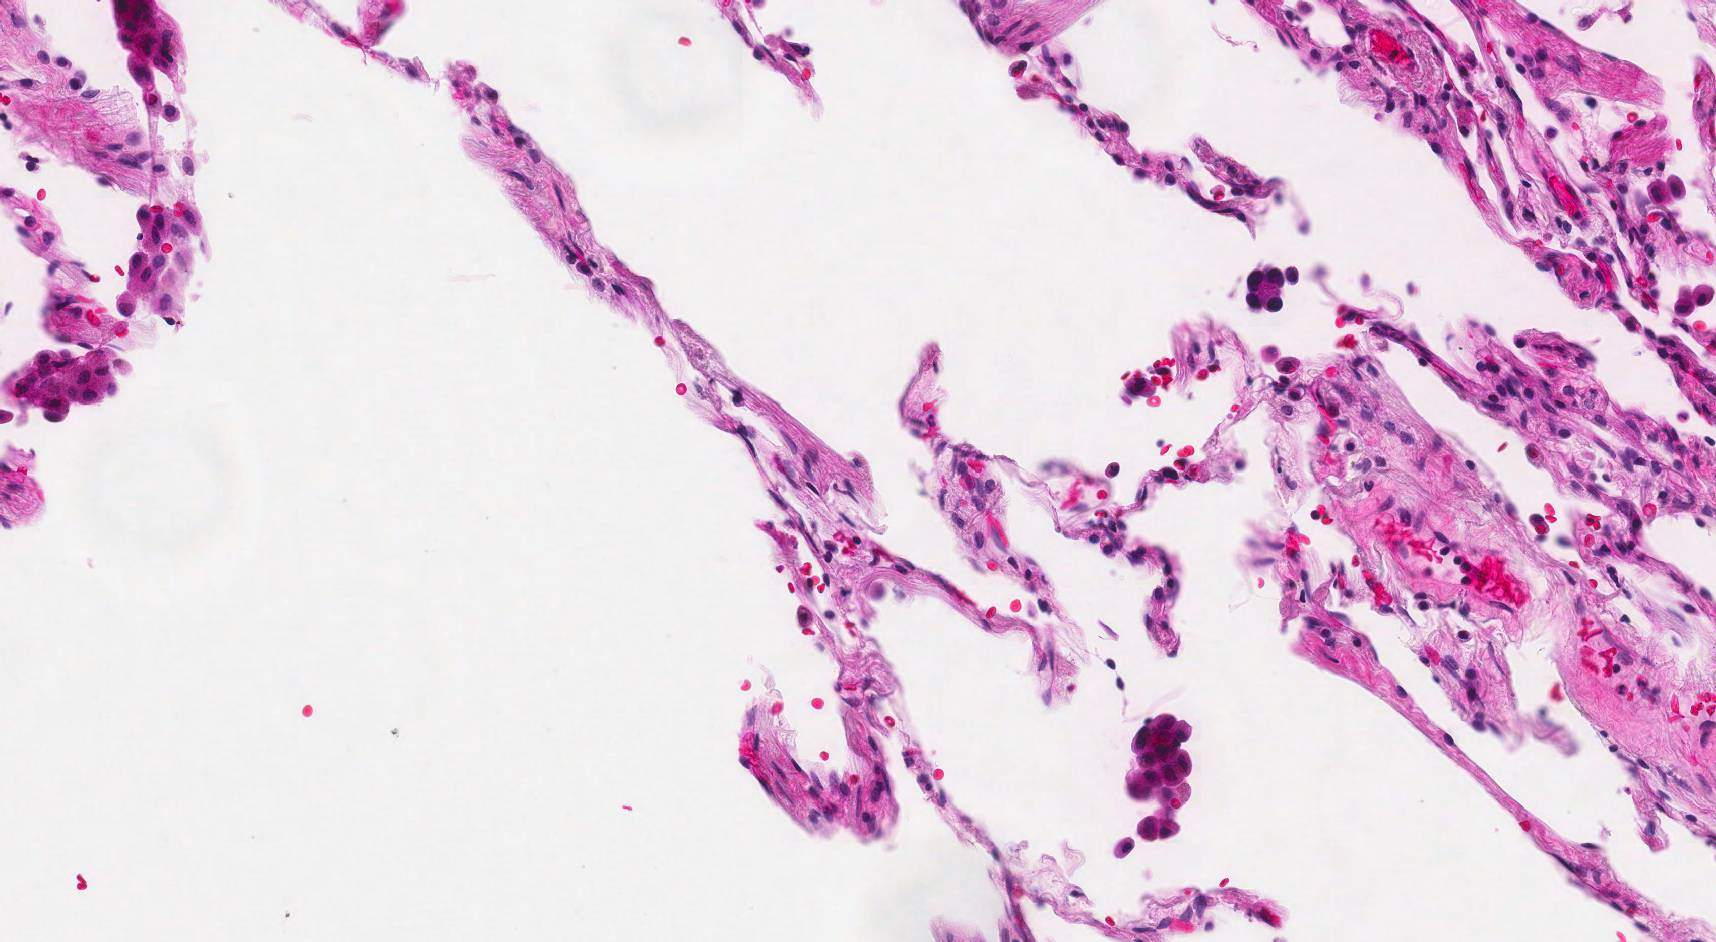stas: (1245, 265, 1286, 314)
